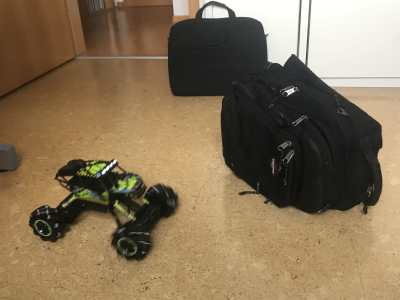remote control car: (26, 155, 178, 261)
